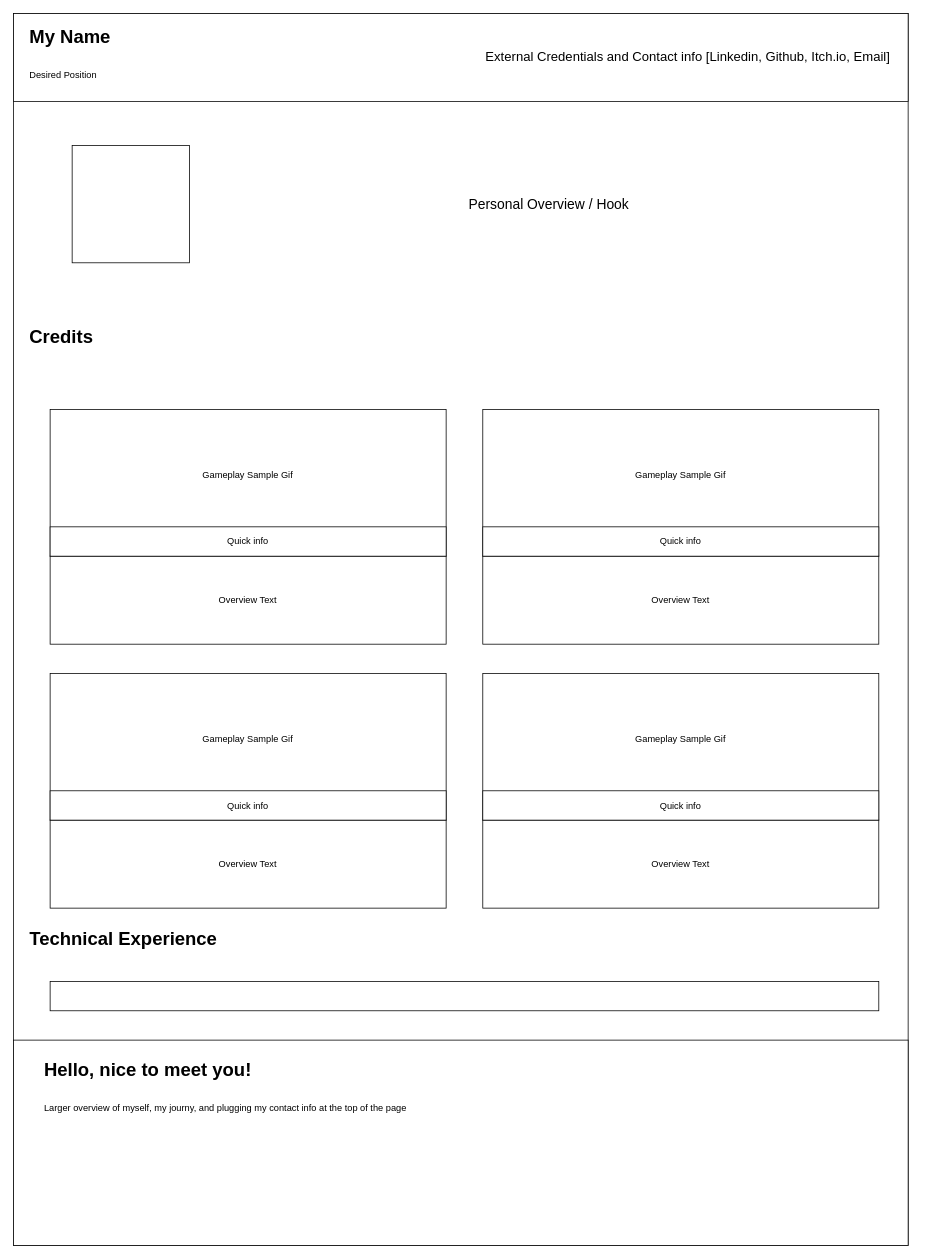
Image size: 951x1259. Some labels were removed from this diagram. Each missing label, with the centre of its shape:
"Profile Photo" belongs at [130,204].
"Relevent Technical Proficencies [Coding Languages, Skills, Certifications]" belongs at [464,996].
